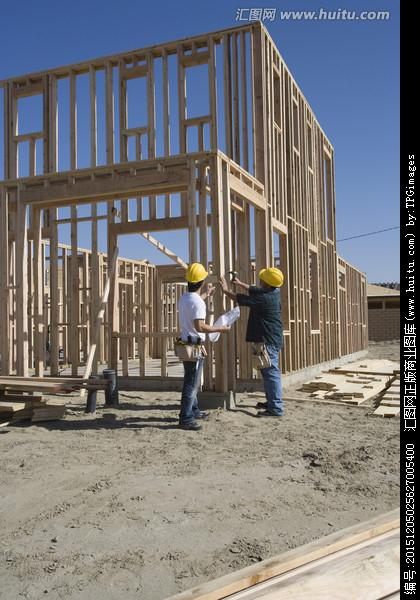helmet: (257, 266, 292, 297), (186, 262, 209, 285)
